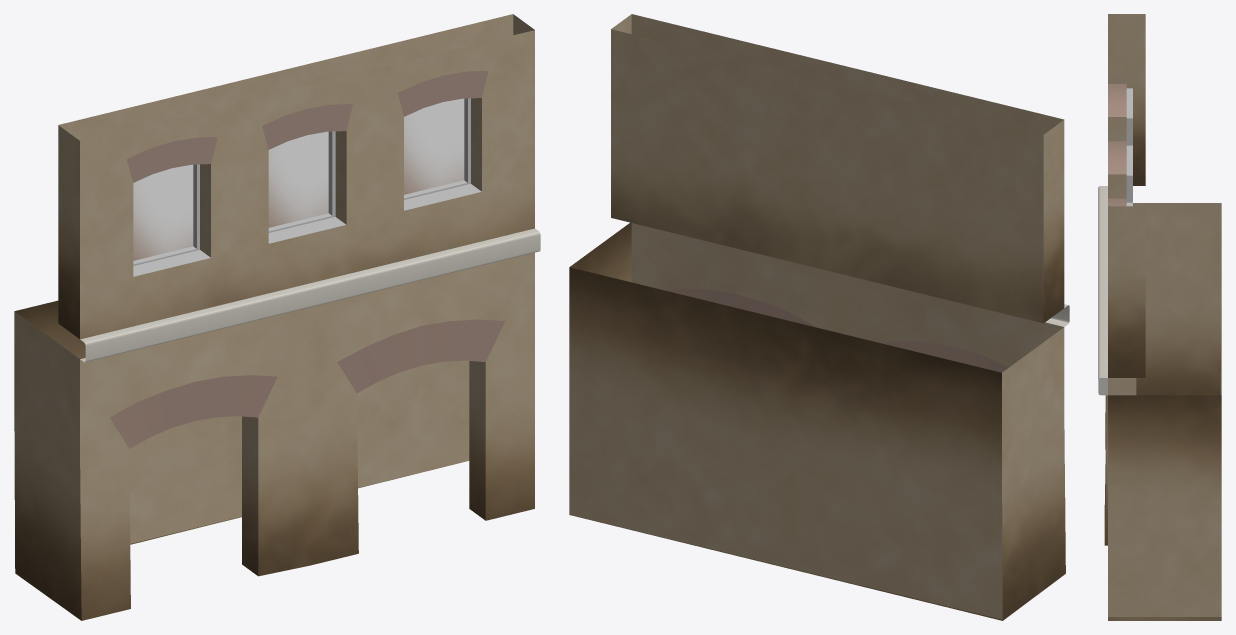
Rendered from WallShopD01.fbx.
The picture shows the model from 3 angles, left to right: view 1: azimuth 30°, elevation 25°; view 2: azimuth 150°, elevation 25°; view 3: azimuth 270°, elevation 25°; orthographic projection. The views are drawn at different scales.
Visible parts, largest first — view 1: WallShopD02, WallUpperB01, StoneMoulding01, WindowUpperA02, WindowUpperA01, WindowUpperA03, BrickArchB02, BrickArchB01, BrickArchA06, BrickArchA05, BrickArchA04; view 2: WallShopD02, WallUpperB01, BrickArchB02, BrickArchB01; view 3: WallShopD02, WallUpperB01, StoneMoulding01, BrickArchA05, BrickArchA04, WindowUpperA01, WindowUpperA02.
Part boxes in pixels (box(x1,y1,x2,y2)): WallShopD02: box(14, 252, 534, 620); WallUpperB01: box(58, 14, 534, 339); StoneMoulding01: box(80, 228, 540, 362); WindowUpperA02: box(268, 131, 345, 243); WindowUpperA01: box(133, 164, 210, 276); WindowUpperA03: box(404, 98, 481, 210); BrickArchB02: box(337, 319, 505, 393); BrickArchB01: box(110, 375, 277, 448); BrickArchA06: box(397, 71, 488, 116); BrickArchA05: box(262, 104, 352, 149); BrickArchA04: box(127, 137, 217, 182); WallShopD02: box(569, 222, 1065, 620); WallUpperB01: box(611, 14, 1064, 323); BrickArchB02: box(665, 288, 815, 327); BrickArchB01: box(881, 341, 1008, 372); WallShopD02: box(1104, 203, 1221, 620); WallUpperB01: box(1108, 14, 1145, 377); StoneMoulding01: box(1098, 186, 1107, 395); BrickArchA05: box(1108, 141, 1126, 174); BrickArchA04: box(1108, 84, 1126, 116); WindowUpperA01: box(1126, 88, 1132, 145); WindowUpperA02: box(1126, 145, 1132, 202).
Size of the model in its own units: 7.32 by 7.37 by 1.98.
